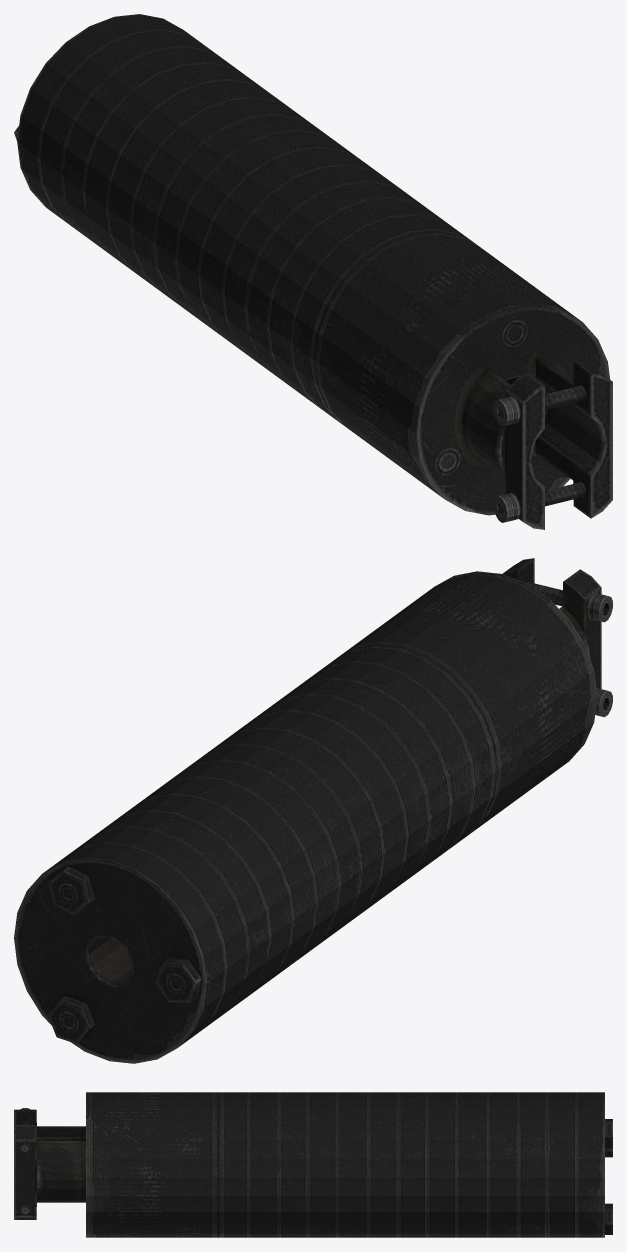
3 views of the same model, one above another, from view 1: azimuth 30°, elevation 25°; view 2: azimuth 150°, elevation 25°; view 3: azimuth 270°, elevation 25° (orthographic). The views are drawn at different scales.
Visible parts, largest first — view 1: TW_593d490386f7745ee97a1555_PZ_Import; view 2: TW_593d490386f7745ee97a1555_PZ_Import; view 3: TW_593d490386f7745ee97a1555_PZ_Import.
Boxes of the visible parts, x1,y1,x2,y2 form: TW_593d490386f7745ee97a1555_PZ_Import: (14, 14, 612, 529); TW_593d490386f7745ee97a1555_PZ_Import: (14, 558, 612, 1063); TW_593d490386f7745ee97a1555_PZ_Import: (14, 1092, 612, 1237).
Size of the model in its own units: 0.0255 by 0.1046 by 0.0255.
1 material, 1 textured.
